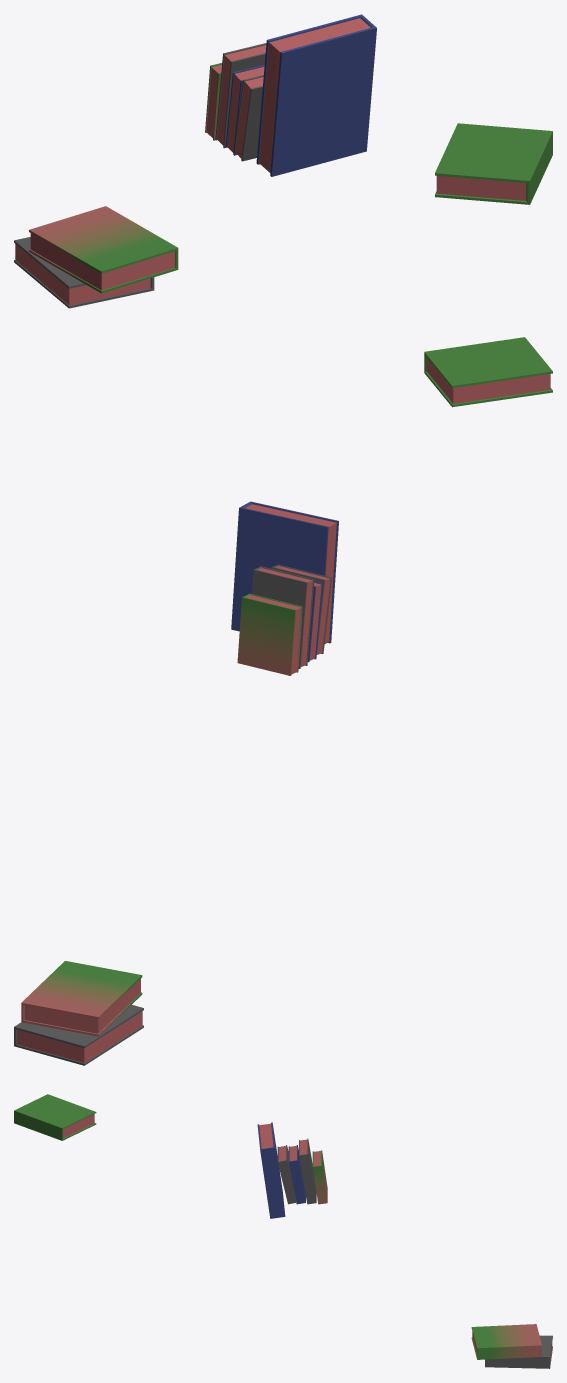
File: Office_Books.fbx
The picture shows the model from 3 angles, top to bottom: view 1: azimuth 30°, elevation 25°; view 2: azimuth 150°, elevation 25°; view 3: azimuth 270°, elevation 25°; orthographic projection. The views are drawn at different scales.
Parts seen in each view (by area): view 1: Office_Books; view 2: Office_Books; view 3: Office_Books.
Boxes of the visible parts, x1,y1,x2,y2 form: Office_Books: (14,14,552,308); Office_Books: (14,337,552,1065); Office_Books: (14,1094,552,1368).
Bounding box in the file's own units: 46.93 × 137 × 280.
